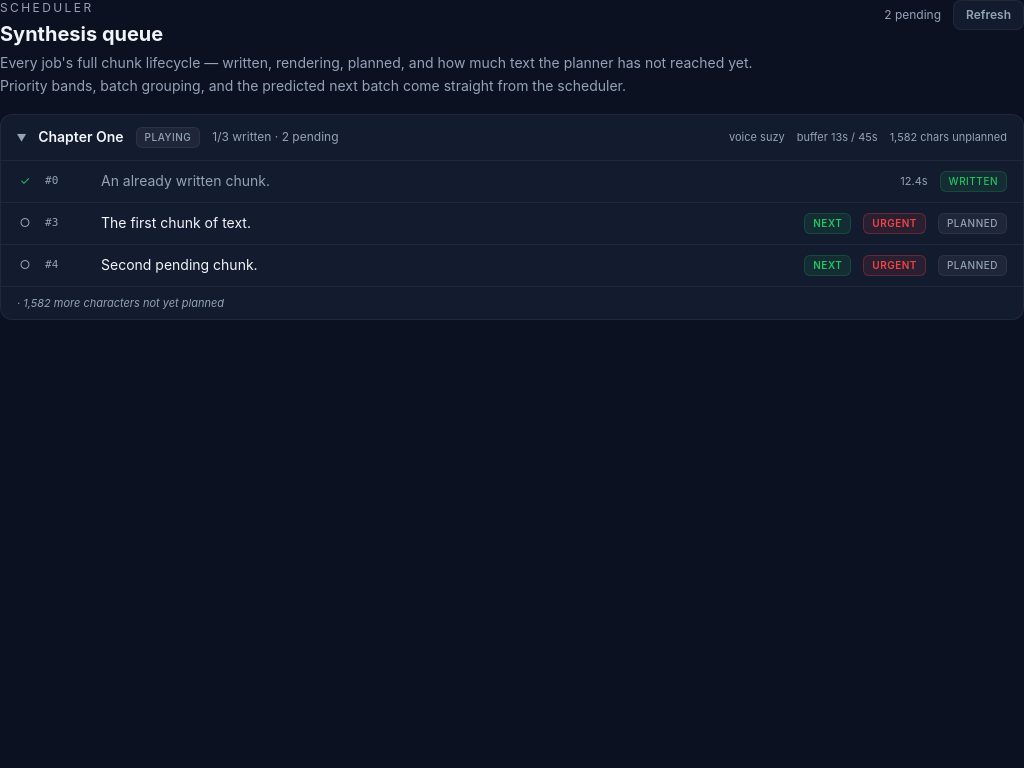
it: clicking a written chunk shows its audio duration instead of priority
Click the button "✓ #0 An already written chunk. 12.4s written" at (185, 180), box [1, 160, 1023, 202]
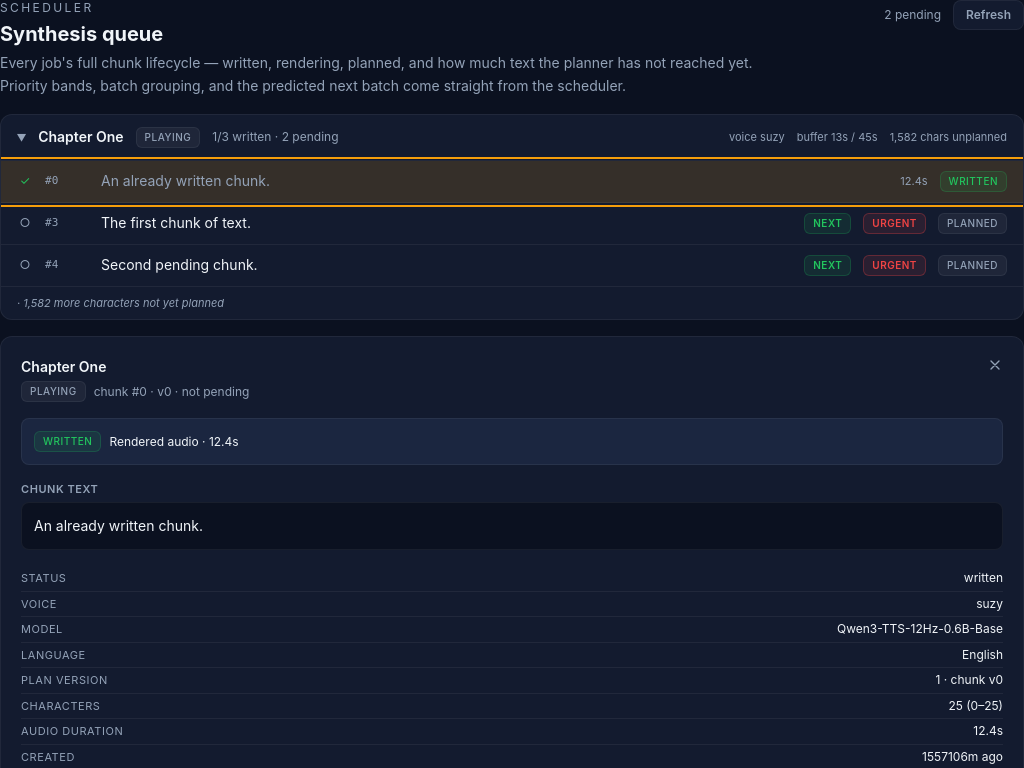
Result: the text "Rendered audio · 12.4s" is shown at [109, 434, 239, 450]
Result: the text "Audio duration" is shown at [21, 723, 123, 740]
